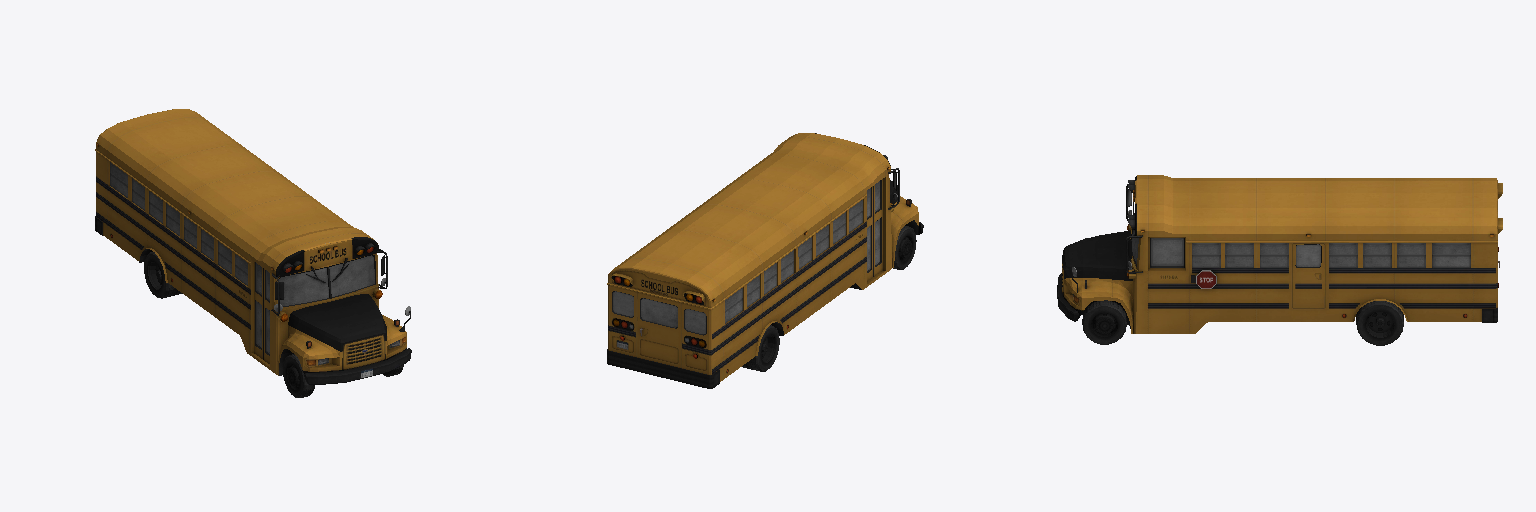
3 renders of one model, left to right at view 1: azimuth 30°, elevation 25°; view 2: azimuth 150°, elevation 25°; view 3: azimuth 270°, elevation 25°, orthographic.
Parts seen in each view (by area): view 1: SchoolBus01, WheelBR, WheelFR; view 2: SchoolBus01, WheelBR, WheelFR; view 3: SchoolBus01, WheelBL, WheelFL.
Boxes of the visible parts, <box> form: SchoolBus01: <box>95,109,411,384</box>; WheelBR: <box>144,252,182,298</box>; WheelFR: <box>283,354,314,397</box>; SchoolBus01: <box>607,133,923,388</box>; WheelBR: <box>742,325,779,371</box>; WheelFR: <box>893,226,916,269</box>; SchoolBus01: <box>1057,175,1502,333</box>; WheelBL: <box>1356,301,1403,345</box>; WheelFL: <box>1082,300,1126,344</box>.
Size of the model in its own units: 259 by 287 by 886.
Materials: 2 (1 with a texture image).